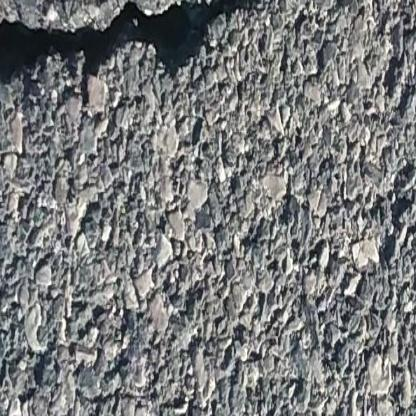Cracks: (0, 0, 318, 116)
